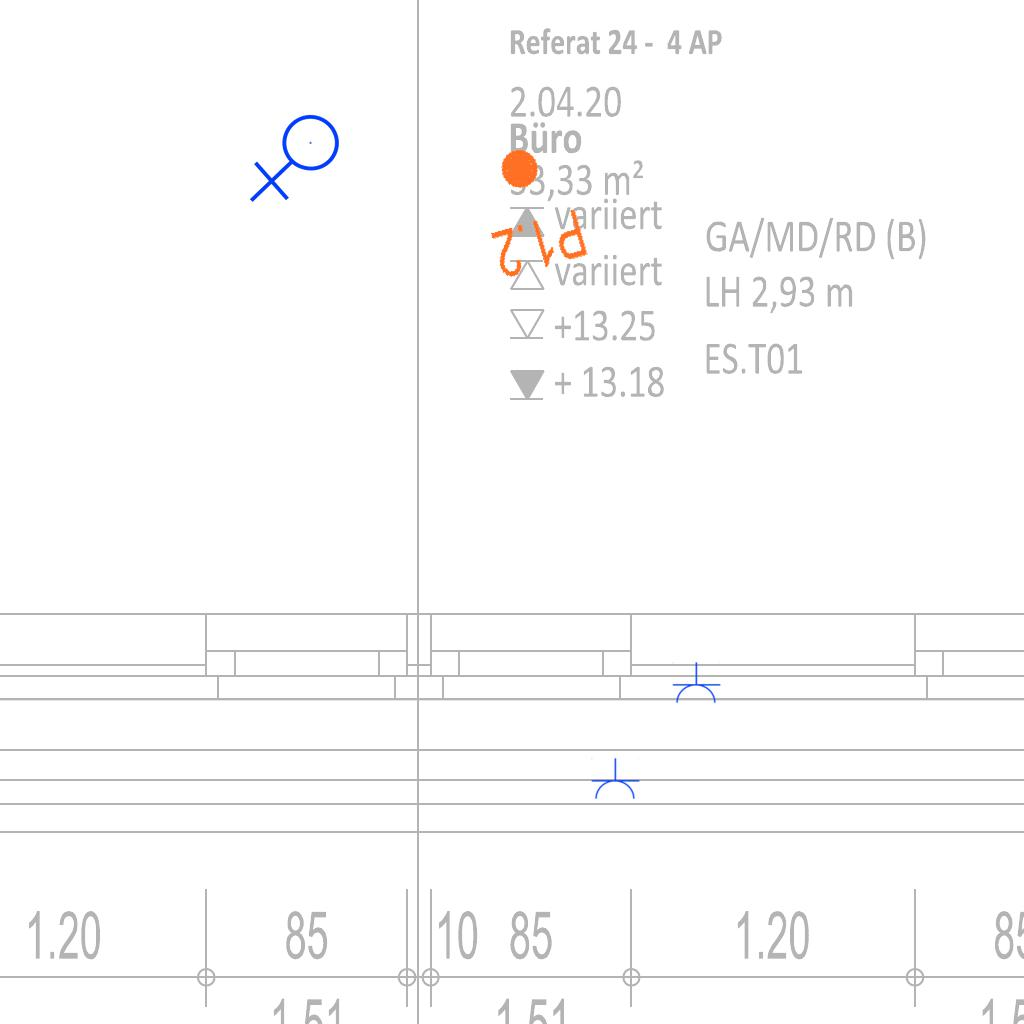Downlight_LED_Einbauleuchten_Flur: (467, 134, 592, 284)
Elektroanschluss_allgemein_230V_Geraeteanschlussdose_230V: (249, 113, 348, 207)
Schukosteckdose_einfach: (590, 758, 640, 801), (671, 662, 721, 705)
